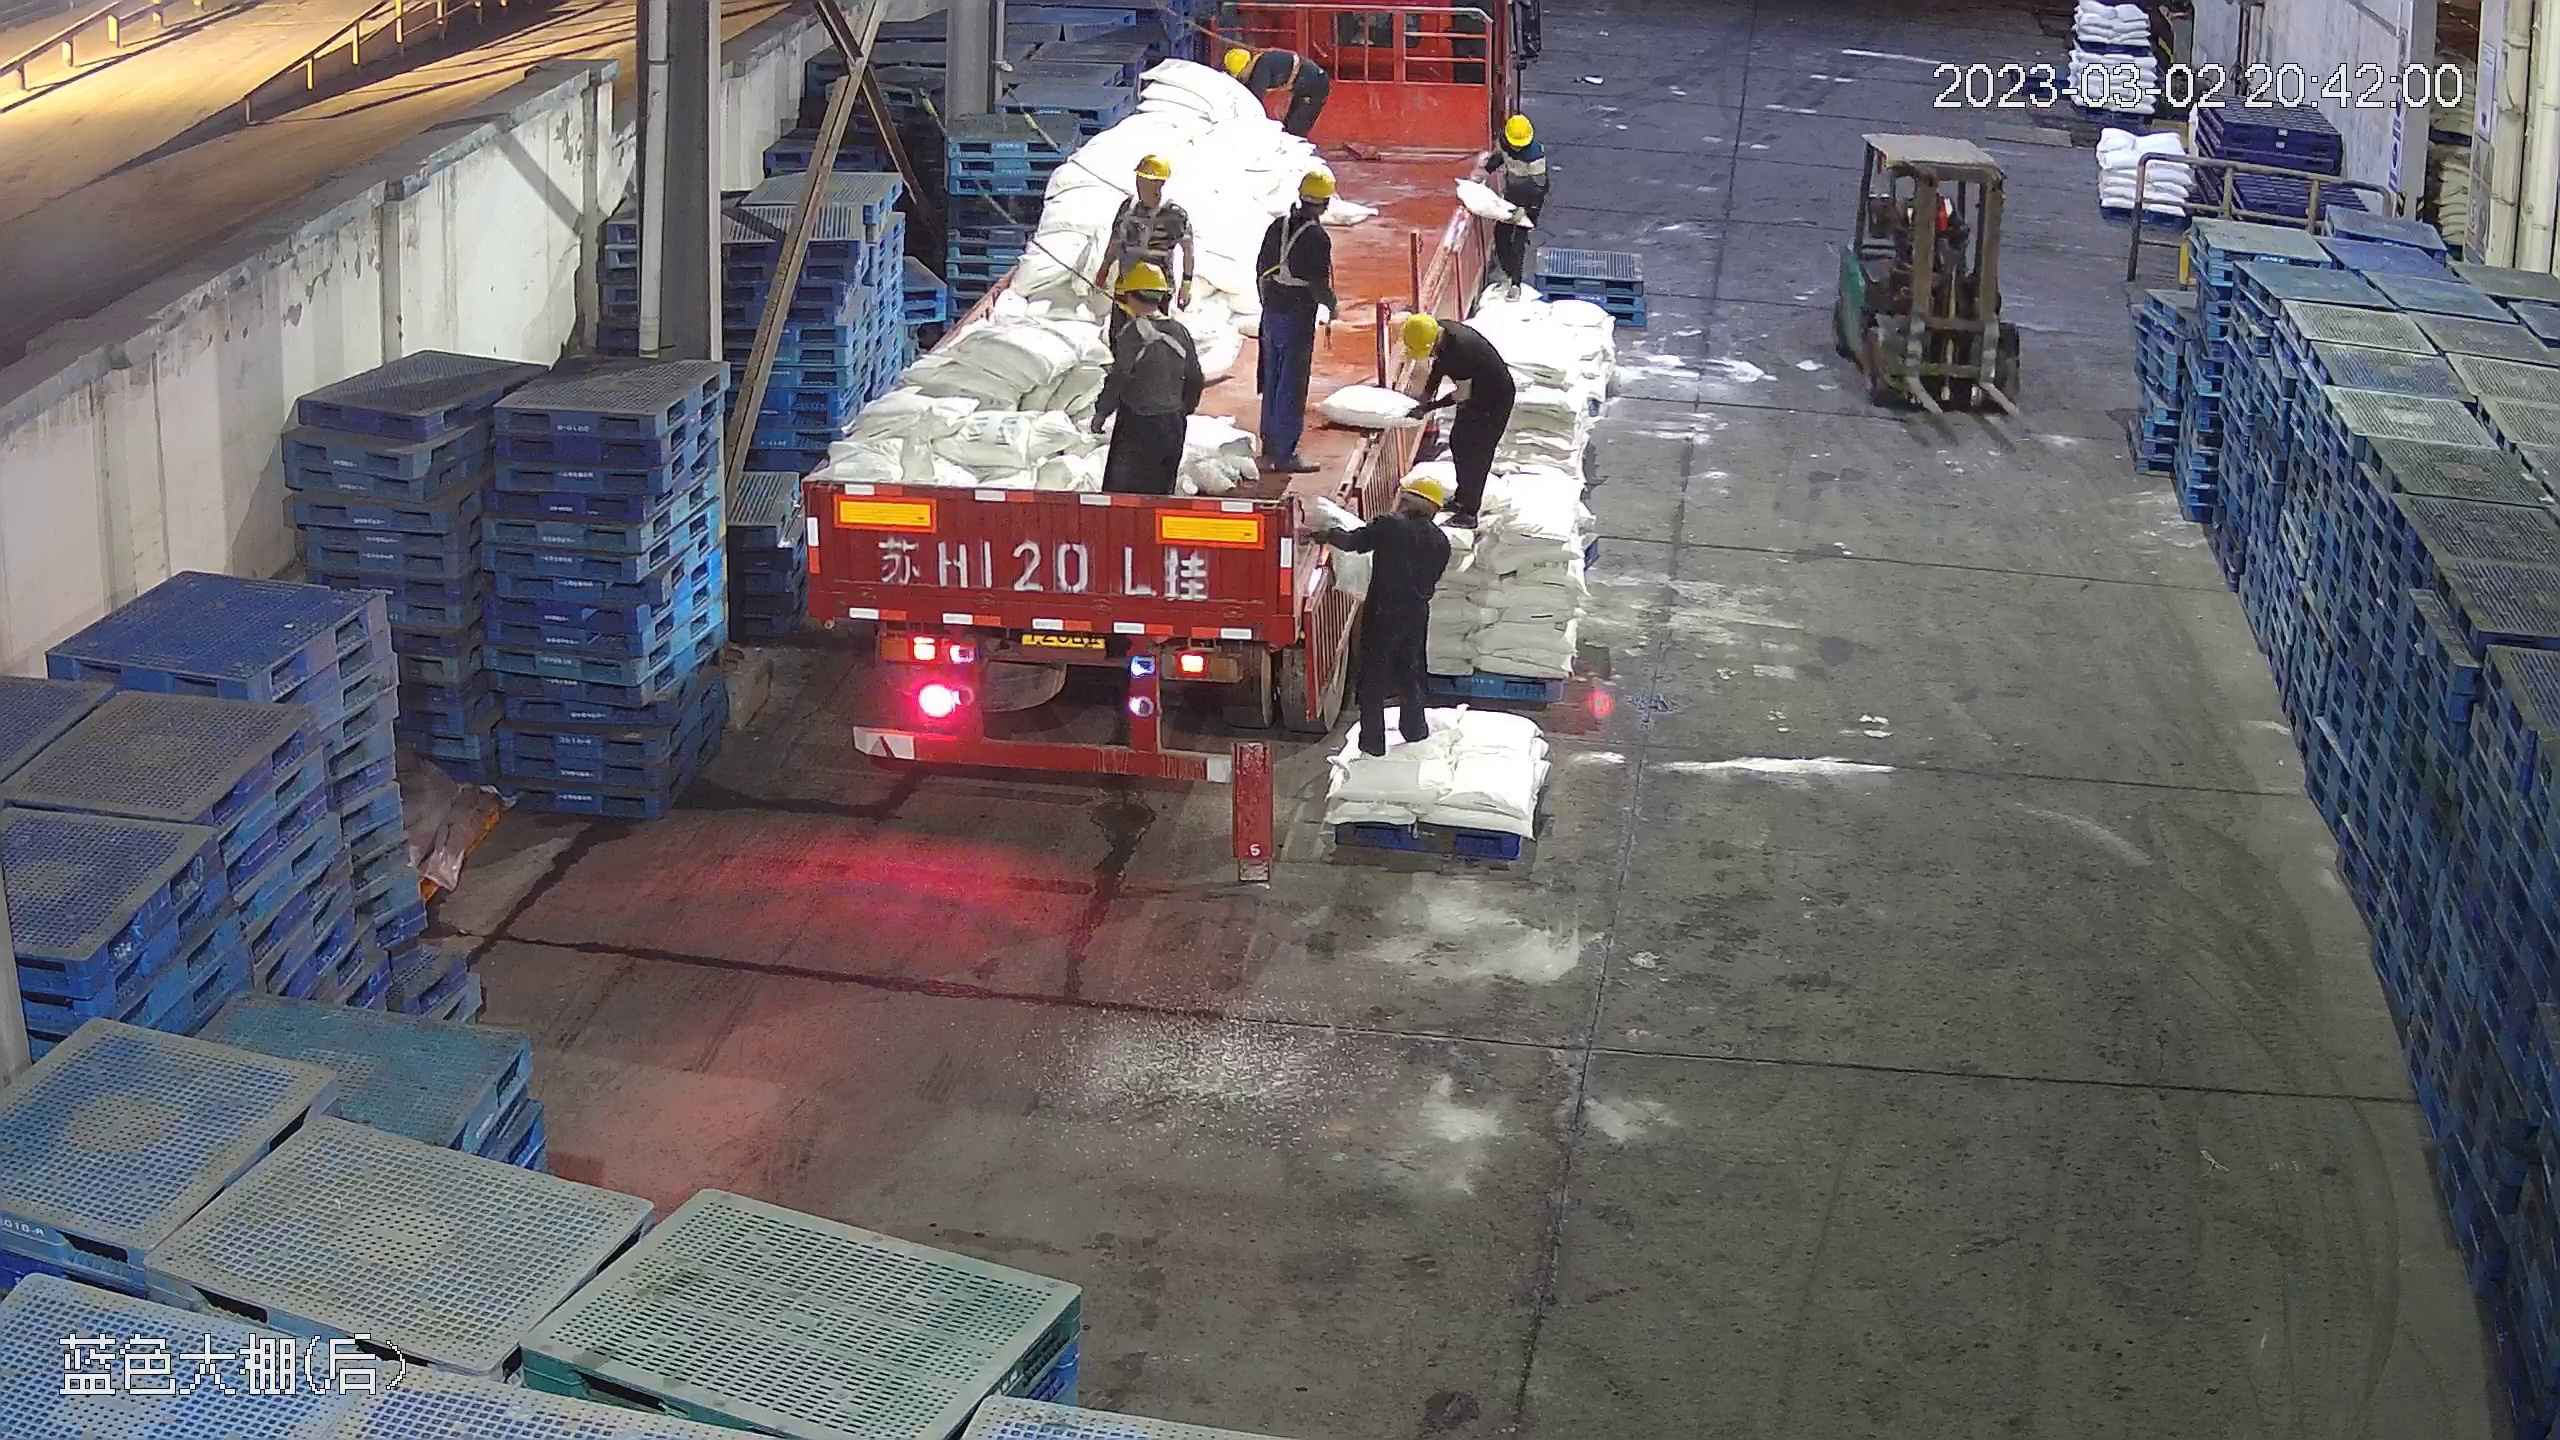belt: (1109, 303, 1193, 382), (1263, 213, 1329, 286), (1120, 191, 1178, 248), (1252, 43, 1301, 94)
head: (1107, 262, 1201, 356), (1358, 469, 1452, 560), (1256, 170, 1343, 258), (1393, 311, 1492, 387), (1113, 154, 1189, 232), (1484, 113, 1548, 180), (1219, 41, 1289, 88)
helmet: (1108, 261, 1169, 299), (1394, 312, 1438, 363), (1403, 472, 1450, 513), (1294, 165, 1340, 199), (1133, 152, 1173, 182), (1499, 111, 1535, 145), (1224, 46, 1254, 76)
people: (1317, 467, 1454, 762), (1238, 165, 1344, 473), (1393, 305, 1520, 544), (1088, 255, 1203, 503), (1468, 112, 1551, 311), (1224, 44, 1333, 138)
truck: (798, 1, 1532, 800)
